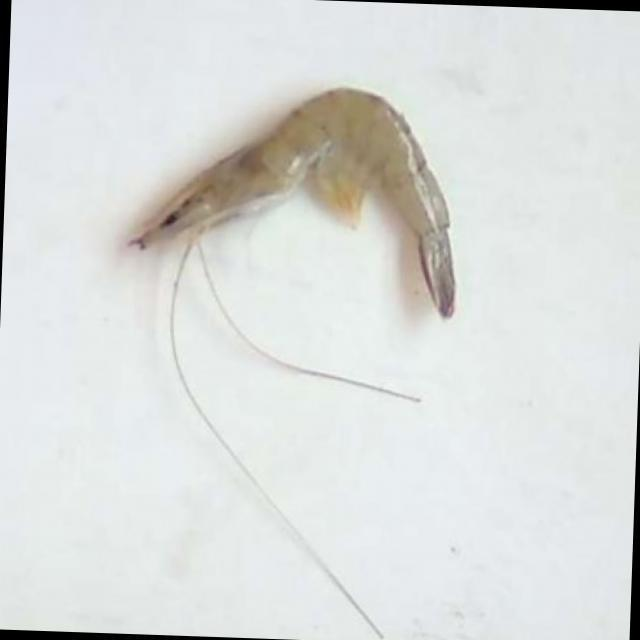shrimp: (130, 88, 455, 317)
